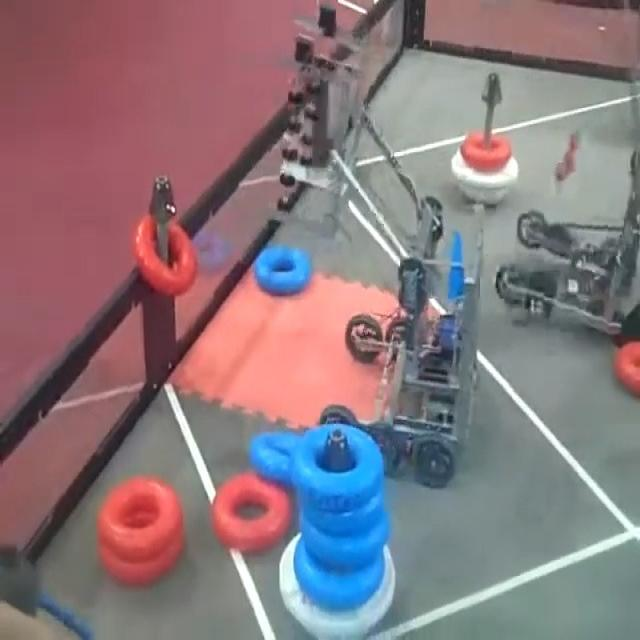Blue-Ring: (292, 425, 382, 512), (294, 535, 384, 609), (302, 513, 389, 569), (302, 492, 384, 536), (249, 432, 302, 484), (255, 245, 311, 294)
Red-Ring: (98, 477, 182, 561), (211, 472, 291, 551), (132, 215, 198, 296), (99, 538, 182, 585), (460, 130, 512, 171), (618, 336, 640, 394)
